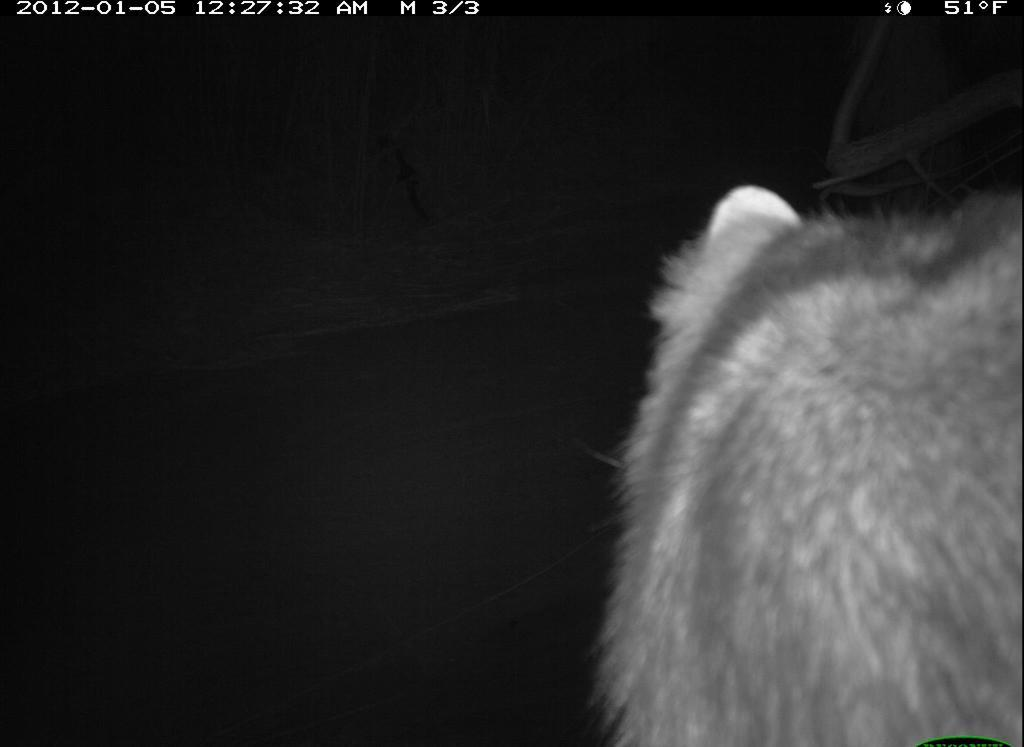raccoon: (597, 193, 1023, 740)
